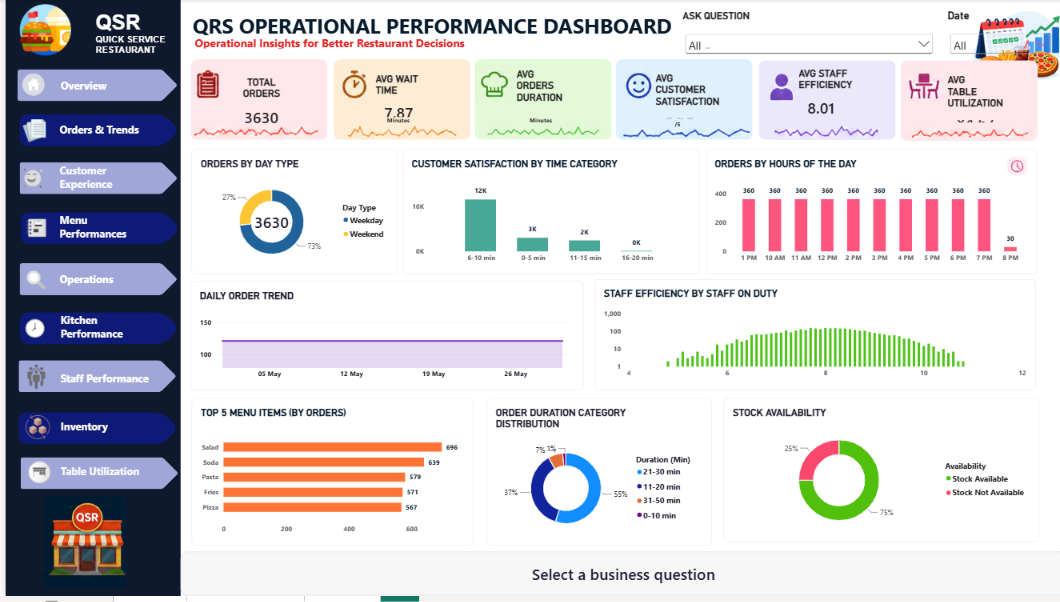

What the dashboard file says about the page in this screenshot:
{"tool":"powerbi","page":{"name":"Page 1","canvas":[1920,1080],"ordinal":0},"visuals":[{"type":"shape","box":[0,0,316.7,2159.1],"z":0},{"type":"shape","title":"KPI - Total Orders","box":[334,108,248,146],"z":1000},{"type":"textbox","box":[162.6,20.6,144.1,92.6],"z":2000},{"type":"shape","title":"KPI - Avg Wait Time","box":[592,108,248,146],"z":3000},{"type":"image","box":[10.3,20.6,144.1,92.6],"z":4000},{"type":"shape","title":"KPI - Avg Order Duration","box":[848,108,248,146],"z":5000},{"type":"textbox","box":[82.3,166.7,224.4,47.3],"z":6000},{"type":"shape","title":"KPI - Avg Customer Satisfaction","box":[1104,108,248,146],"z":7000},{"type":"textbox","box":[82.3,232.6,234.6,51.5],"z":8000},{"type":"shape","title":"KPI - Avg Staff Efficiency","box":[1362,110,248,144],"z":9000},{"type":"textbox","box":[82.3,310.8,255.2,59.7],"z":10000},{"type":"shape","title":"KPI - Avg Table Utilisation","box":[1618,110,248,146],"z":11000},{"type":"textbox","box":[82.3,384.9,255.2,45.3],"z":12000},{"type":"textbox","box":[82.3,463.1,265.5,35],"z":13000},{"type":"textbox","box":[82,540,226,48],"z":14000},{"type":"textbox","box":[82.2,617.8,212.2,53.3],"z":15000},{"type":"textbox","box":[82.2,685.6,152.2,44.4],"z":16000},{"type":"image","box":[16.5,144.1,59.7,70],"z":17000},{"type":"image","box":[22.6,218.2,47.3,65.9],"z":18000},{"type":"image","box":[16.5,302.6,59.7,47.3],"z":19000},{"type":"image","box":[22.6,376.7,45.3,53.5],"z":20000},{"type":"image","box":[16.5,448.7,61.7,49.4],"z":21000},{"type":"image","box":[22.6,535.2,47.3,51.5],"z":22000},{"type":"image","box":[2.1,599,86.4,65.9],"z":23000},{"type":"image","box":[8.2,671,67.9,49.4],"z":24000},{"type":"textbox","box":[82.5,753.9,223.8,38.5],"z":25000},{"type":"image","box":[12.3,753.3,59,45],"z":26000},{"type":"textbox","title":" QRS  OPERATIONAL PERFORMANCE DASHBOARD","box":[338.3,21.3,936.2,68.1],"z":27000},{"type":"textbox","title":"Operational Insights for Better Restaurant Decisions","box":[342,66,528,24],"z":28000},{"type":"cardVisual","title":"AVG ORDERS DURATION ","fields":{"Data":["qsr_operations qsr_daily_analysis.Average Order Duration"]},"box":[923.1,125,126.9,83.1],"z":29000},{"type":"cardVisual","title":"AVG WAIT TIME","fields":{"Data":["qsr_operations qsr_daily_analysis.Average Wait Time"]},"box":[668.4,134.2,149.5,80],"z":30000},{"type":"cardVisual","title":"AVG STAFF EFFICIENCY","fields":{"Data":["qsr_order.Avg Staff Efficiency"]},"box":[1434,122,176.8,84.7],"z":31000},{"type":"cardVisual","title":"AVG CUSTOMER SATISFACTION","fields":{"Data":["qsr_order.Avg Customer Satisfaction"]},"box":[1176.2,131.2,154.7,84.7],"z":32000},{"type":"cardVisual","title":"AVG TABLE UTILIZATION","fields":{"Data":["qsr_order.Avg Table Utilization"]},"box":[1704.2,135.3,102.6,87.9],"z":33000},{"type":"clusteredColumnChart","title":"ORDERS BY HOURS OF THE DAY","fields":{"Y":["qsr_order.Total Order"],"Category":["qsr_order.Hour Label"]},"box":[1266.7,271.7,600,226.7],"z":34000},{"type":"donutChart","title":"ORDERS BY DAY TYPE","fields":{"Y":["qsr_order.Total Order"],"Category":["qsr_order.Day Type"]},"box":[336,272,374,226],"z":35000},{"type":"clusteredColumnChart","title":"CUSTOMER SATISFACTION BY TIME  CATEGORY","fields":{"Category":["qsr_order.wait_category"],"Y":["Sum(qsr_order.customer_satisfaction)"]},"box":[718.3,271.7,536.7,226.7],"z":36000},{"type":"clusteredBarChart","title":"TOP 5 MENU ITEMS (BY ORDERS)","fields":{"Category":["qsr_order.menu_item"],"Y":["qsr_order.Total Order"]},"box":[336,722,510,266],"z":37000},{"type":"donutChart","title":"ORDER DURATION CATEGORY DISTRIBUTION","fields":{"Category":["qsr_order.order_duration_category"],"Y":["Sum(qsr_order.order_duration_min)"]},"box":[870,721.7,408.3,266.7],"z":38000},{"type":"slicer","title":"Date","fields":{"Values":["qsr_order.date"]},"box":[1703.2,17.3,163.4,98],"z":39000},{"type":"cardVisual","title":"TOTAL ORDERS","fields":{"Data":["qsr_order.Total Order"]},"box":[385.6,138.1,151.9,85.6],"z":40000},{"type":"image","box":[65.6,820,150,167.8],"z":41000},{"type":"textbox","box":[1209.4,214.1,15.9,21.8],"z":42000},{"type":"textbox","box":[947.3,208,48.7,22.7],"z":43000},{"type":"textbox","box":[654.7,208.4,111.1,20],"z":44000},{"type":"image","box":[338.3,125,50.7,56],"z":45000},{"type":"image","box":[335.5,223.6,239.1,30],"z":46000},{"type":"image","box":[590,228.2,256.4,25.5],"z":47000},{"type":"image","box":[1625.5,231.8,242.7,22.7],"z":48000},{"type":"image","box":[606.7,125,50,56.7],"z":49000},{"type":"image","box":[850,116.7,68.3,73.3],"z":50000},{"type":"image","box":[1113.8,120,62.5,61.2],"z":51000},{"type":"image","box":[1374.7,124.7,66.8,67.9],"z":52000},{"type":"image","box":[1624.2,121.6,80,62.6],"z":53000},{"type":"image","box":[852.7,226.4,242.7,27.3],"z":54000},{"type":"image","box":[1111.8,218.2,234.4,46.2],"z":55000},{"type":"image","box":[1324.5,229.1,323.6,24.5],"z":56000},{"type":"image","box":[1822.9,284.3,46.1,46.1],"z":57000},{"type":"donutChart","title":"STOCK AVAILABILITY","fields":{"Category":["qsr_order.Stock Status"],"Y":["CountNonNull(qsr_order.order_id)"]},"box":[1300,721.7,570,260],"z":58000},{"type":"actionButton","title":"button - overview","box":[1.8,148.6,317,62],"z":60000},{"type":"lineChart","title":"DAILY ORDER TREND","fields":{"Y":["qsr_order.Total Order"],"Category":["qsr_order.date"]},"box":[334.4,510,711.1,197.8],"z":61000},{"type":"clusteredColumnChart","title":"STAFF EFFICIENCY BY STAFF ON DUTY","fields":{"Y":["CountNonNull(qsr_order.staff_on_duty)"],"Category":["qsr_order.staff_efficiency"]},"box":[1066.2,507.5,798.8,200],"z":62000},{"type":"slicer","title":"ASK QUESTION","fields":{"Values":["Business Questions.Question"]},"box":[1224.5,19.2,457.5,90.3],"z":63000},{"type":"cardVisual","fields":{"Data":["Business Questions.Question Answer"]},"box":[317.3,999.7,1601.4,80.6],"z":64000},{"type":"image","box":[832.7,1020.8,74.4,41.3],"z":65000},{"type":"shape","box":[884,1021,84,43],"z":66000}]}

Visuals, with their boxes on the page's 1920x1080 design canvas (x1, y1, x2, y2). These are canvas units, not pixel positions in the 1060x602 screenshot, which may show the page scaled, cropped or inside an application window:
shape: (x1=0, y1=0, x2=317, y2=2159)
"KPI - Total Orders" shape: (x1=334, y1=108, x2=582, y2=254)
textbox: (x1=163, y1=21, x2=307, y2=113)
"KPI - Avg Wait Time" shape: (x1=592, y1=108, x2=840, y2=254)
image: (x1=10, y1=21, x2=154, y2=113)
"KPI - Avg Order Duration" shape: (x1=848, y1=108, x2=1096, y2=254)
textbox: (x1=82, y1=167, x2=307, y2=214)
"KPI - Avg Customer Satisfaction" shape: (x1=1104, y1=108, x2=1352, y2=254)
textbox: (x1=82, y1=233, x2=317, y2=284)
"KPI - Avg Staff Efficiency" shape: (x1=1362, y1=110, x2=1610, y2=254)
textbox: (x1=82, y1=311, x2=338, y2=370)
"KPI - Avg Table Utilisation" shape: (x1=1618, y1=110, x2=1866, y2=256)
textbox: (x1=82, y1=385, x2=338, y2=430)
textbox: (x1=82, y1=463, x2=348, y2=498)
textbox: (x1=82, y1=540, x2=308, y2=588)
textbox: (x1=82, y1=618, x2=294, y2=671)
textbox: (x1=82, y1=686, x2=234, y2=730)
image: (x1=16, y1=144, x2=76, y2=214)
image: (x1=23, y1=218, x2=70, y2=284)
image: (x1=16, y1=303, x2=76, y2=350)
image: (x1=23, y1=377, x2=68, y2=430)
image: (x1=16, y1=449, x2=78, y2=498)
image: (x1=23, y1=535, x2=70, y2=587)
image: (x1=2, y1=599, x2=88, y2=665)
image: (x1=8, y1=671, x2=76, y2=720)
textbox: (x1=82, y1=754, x2=306, y2=792)
image: (x1=12, y1=753, x2=71, y2=798)
" QRS  OPERATIONAL PERFORMANCE DASHBOARD" textbox: (x1=338, y1=21, x2=1274, y2=89)
"Operational Insights for Better Restaurant Decisions" textbox: (x1=342, y1=66, x2=870, y2=90)
"AVG ORDERS DURATION " cardVisual: (x1=923, y1=125, x2=1050, y2=208)
"AVG WAIT TIME" cardVisual: (x1=668, y1=134, x2=818, y2=214)
"AVG STAFF EFFICIENCY" cardVisual: (x1=1434, y1=122, x2=1611, y2=207)
"AVG CUSTOMER SATISFACTION" cardVisual: (x1=1176, y1=131, x2=1331, y2=216)
"AVG TABLE UTILIZATION" cardVisual: (x1=1704, y1=135, x2=1807, y2=223)
"ORDERS BY HOURS OF THE DAY" clusteredColumnChart: (x1=1267, y1=272, x2=1867, y2=498)
"ORDERS BY DAY TYPE" donutChart: (x1=336, y1=272, x2=710, y2=498)
"CUSTOMER SATISFACTION BY TIME  CATEGORY" clusteredColumnChart: (x1=718, y1=272, x2=1255, y2=498)
"TOP 5 MENU ITEMS (BY ORDERS)" clusteredBarChart: (x1=336, y1=722, x2=846, y2=988)
"ORDER DURATION CATEGORY DISTRIBUTION" donutChart: (x1=870, y1=722, x2=1278, y2=988)
"Date" slicer: (x1=1703, y1=17, x2=1867, y2=115)
"TOTAL ORDERS" cardVisual: (x1=386, y1=138, x2=538, y2=224)
image: (x1=66, y1=820, x2=216, y2=988)
textbox: (x1=1209, y1=214, x2=1225, y2=236)
textbox: (x1=947, y1=208, x2=996, y2=231)
textbox: (x1=655, y1=208, x2=766, y2=228)
image: (x1=338, y1=125, x2=389, y2=181)
image: (x1=336, y1=224, x2=575, y2=254)
image: (x1=590, y1=228, x2=846, y2=254)
image: (x1=1626, y1=232, x2=1868, y2=254)
image: (x1=607, y1=125, x2=657, y2=182)
image: (x1=850, y1=117, x2=918, y2=190)
image: (x1=1114, y1=120, x2=1176, y2=181)
image: (x1=1375, y1=125, x2=1442, y2=193)
image: (x1=1624, y1=122, x2=1704, y2=184)
image: (x1=853, y1=226, x2=1095, y2=254)
image: (x1=1112, y1=218, x2=1346, y2=264)
image: (x1=1324, y1=229, x2=1648, y2=254)
image: (x1=1823, y1=284, x2=1869, y2=330)
"STOCK AVAILABILITY" donutChart: (x1=1300, y1=722, x2=1870, y2=982)
"button - overview" actionButton: (x1=2, y1=149, x2=319, y2=211)
"DAILY ORDER TREND" lineChart: (x1=334, y1=510, x2=1046, y2=708)
"STAFF EFFICIENCY BY STAFF ON DUTY" clusteredColumnChart: (x1=1066, y1=508, x2=1865, y2=708)
"ASK QUESTION" slicer: (x1=1224, y1=19, x2=1682, y2=110)
cardVisual - Business Questions.Question Answer: (x1=317, y1=1000, x2=1919, y2=1080)
image: (x1=833, y1=1021, x2=907, y2=1062)
shape: (x1=884, y1=1021, x2=968, y2=1064)
